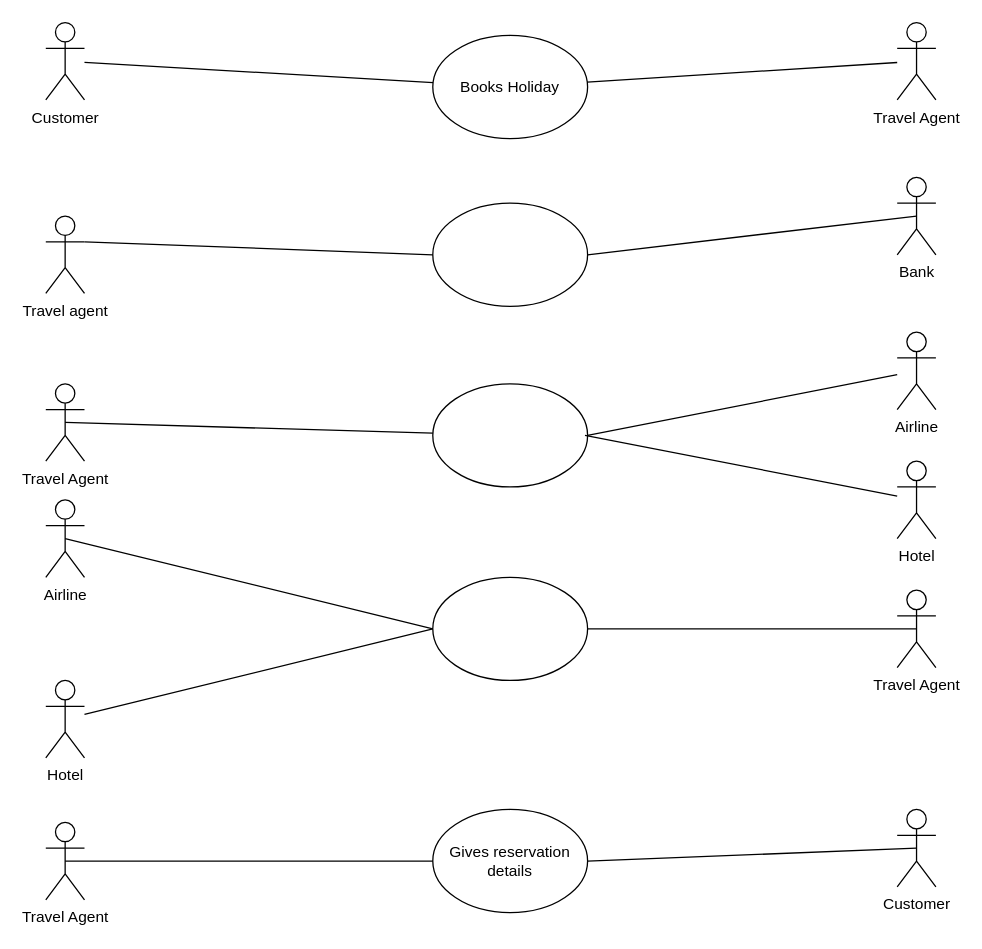
Image size: 982x949. Some labels were removed from this diagram. Here are the shapes that lost their labels. From the top down, the centre of each, then its label:
point (510, 254): Takes payment
point (510, 434): Passes Customers Payment and Booking Details On
point (510, 628): Confirms Customers Booking
